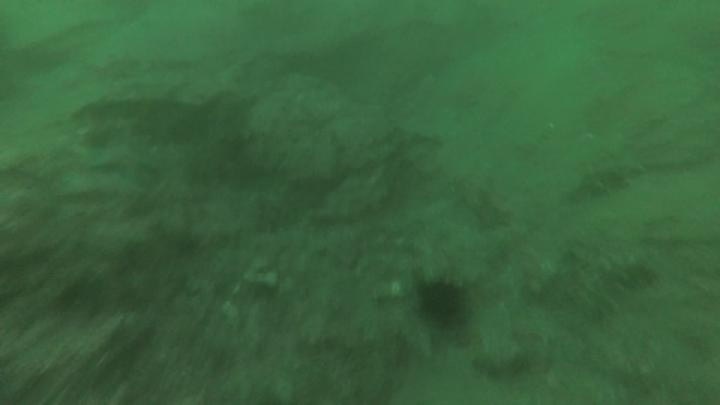echinus: (415, 277, 468, 329)
holothurian: (568, 250, 657, 321), (565, 149, 649, 203)
starfish: (88, 133, 161, 189)
